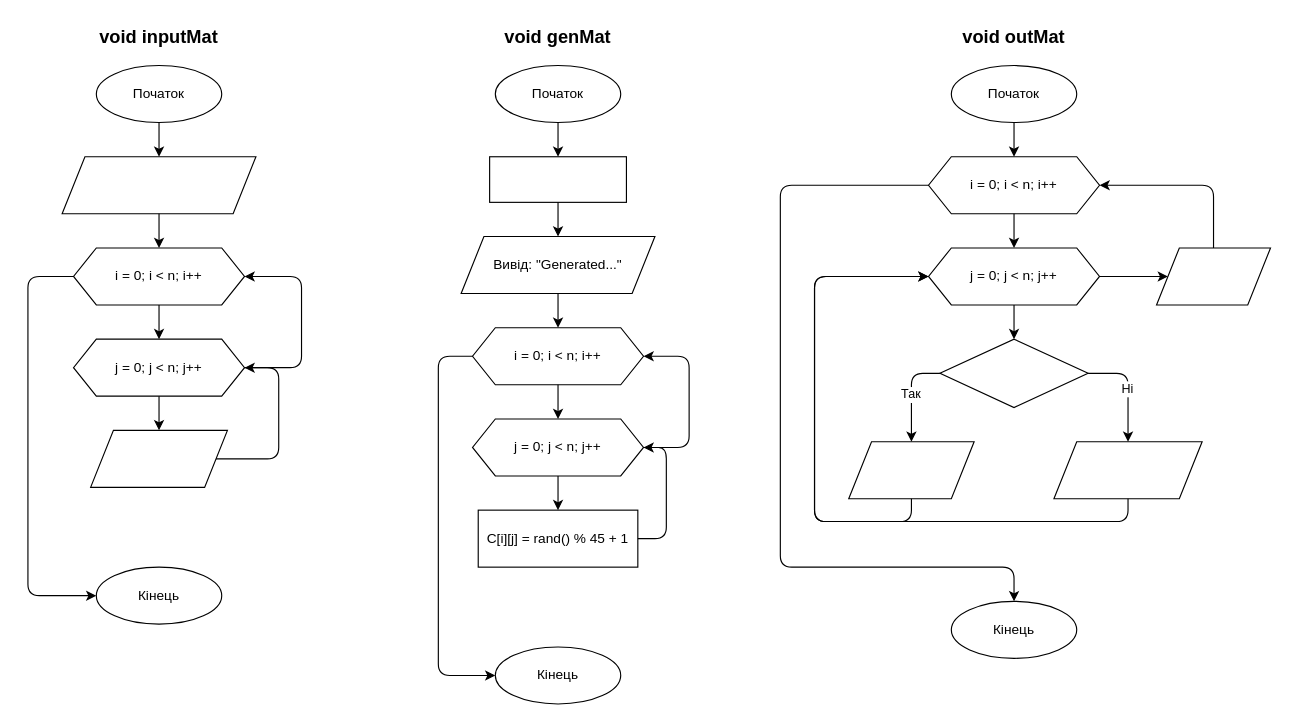
Some shapes in this 1290 by 724 pixel diagram are drawn without their labels. Each missing label, with the box of its shape:
C[i][j] == inf?: (939, 338, 1088, 408)
srand(time(NULL)): (488, 156, 626, 202)
Ввід: C[i][j]: (89, 429, 227, 487)
Вивід: "Enter matrix...": (61, 156, 256, 214)
Вивід: "inf\t": (848, 441, 974, 499)
Вивід: C[i][j] + "\t": (1053, 441, 1202, 499)
Вивід: endl: (1155, 247, 1271, 305)
